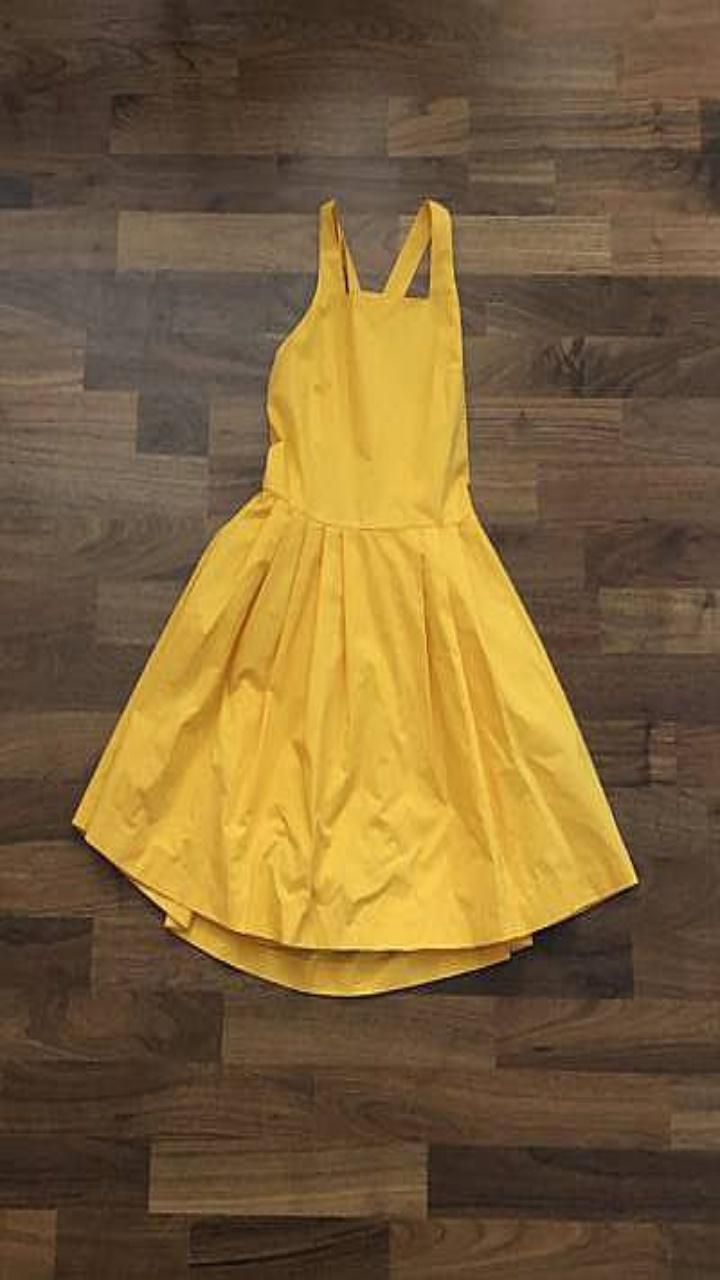Dresses: (72, 199, 637, 994)
